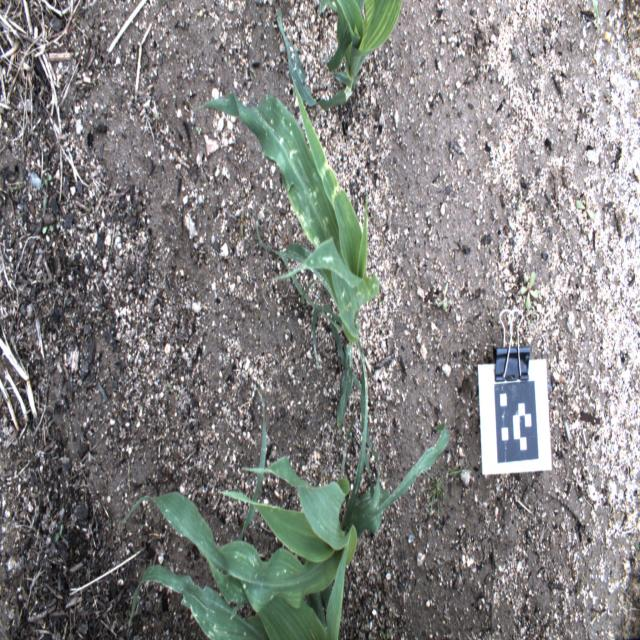crop: (122, 329, 450, 614), (197, 86, 382, 430), (130, 384, 351, 640), (276, 0, 402, 115)
weed: (418, 462, 472, 530), (520, 269, 538, 308), (576, 198, 594, 220), (592, 0, 599, 38), (55, 521, 64, 544), (42, 226, 55, 234), (44, 174, 52, 186)
